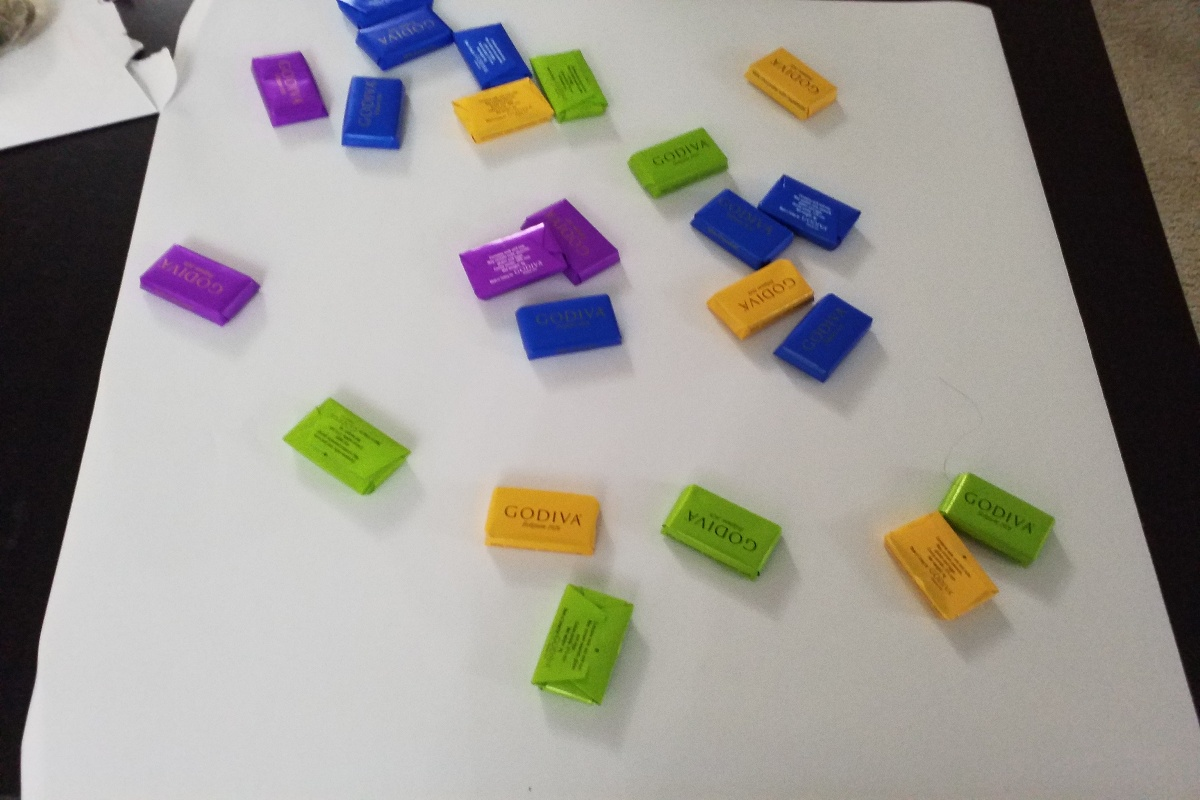chocolate_blue: (509, 295, 641, 370), (332, 69, 424, 162)
chocolate_green: (645, 476, 798, 603), (524, 579, 654, 724), (263, 388, 415, 512), (942, 458, 1072, 585), (617, 120, 734, 196), (536, 41, 615, 137)
chocolate_purple: (135, 235, 267, 335), (237, 40, 334, 141)
chocolate_yellow: (870, 502, 1002, 654), (480, 470, 617, 562), (740, 44, 840, 131)
